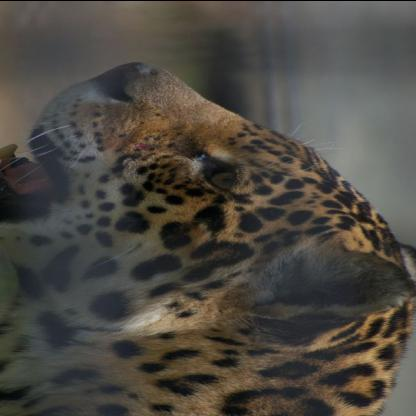leopard: (1, 52, 415, 348)
